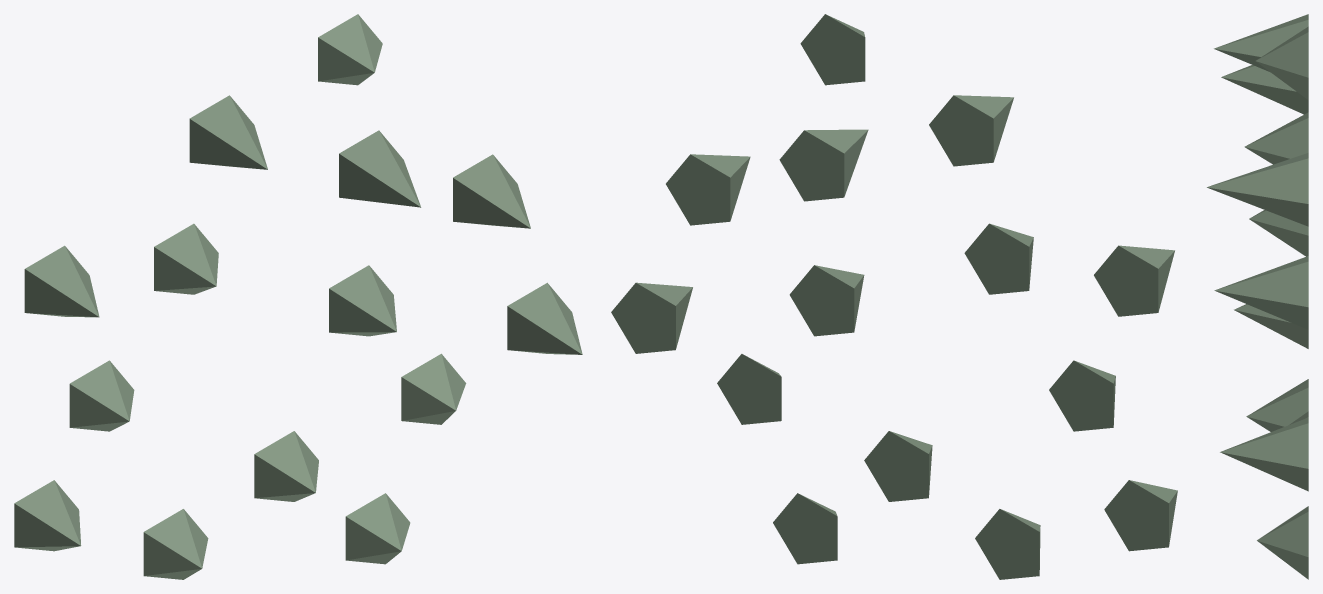
The model's file is VP_PROTOTYPE_PIONEER.glb.
3 renders of one model, left to right at view 1: azimuth 30°, elevation 25°; view 2: azimuth 150°, elevation 25°; view 3: azimuth 270°, elevation 25°, orthographic. The views are drawn at different scales.
Parts seen in each view (by area): view 1: world; view 2: world; view 3: world.
Part boxes in pixels (x1,y1,x2,y2): world: (14,14,582,579); world: (611,14,1177,579); world: (1207,14,1308,579).
Size of the model in its own units: 1.56 by 1.49 by 0.2579.
